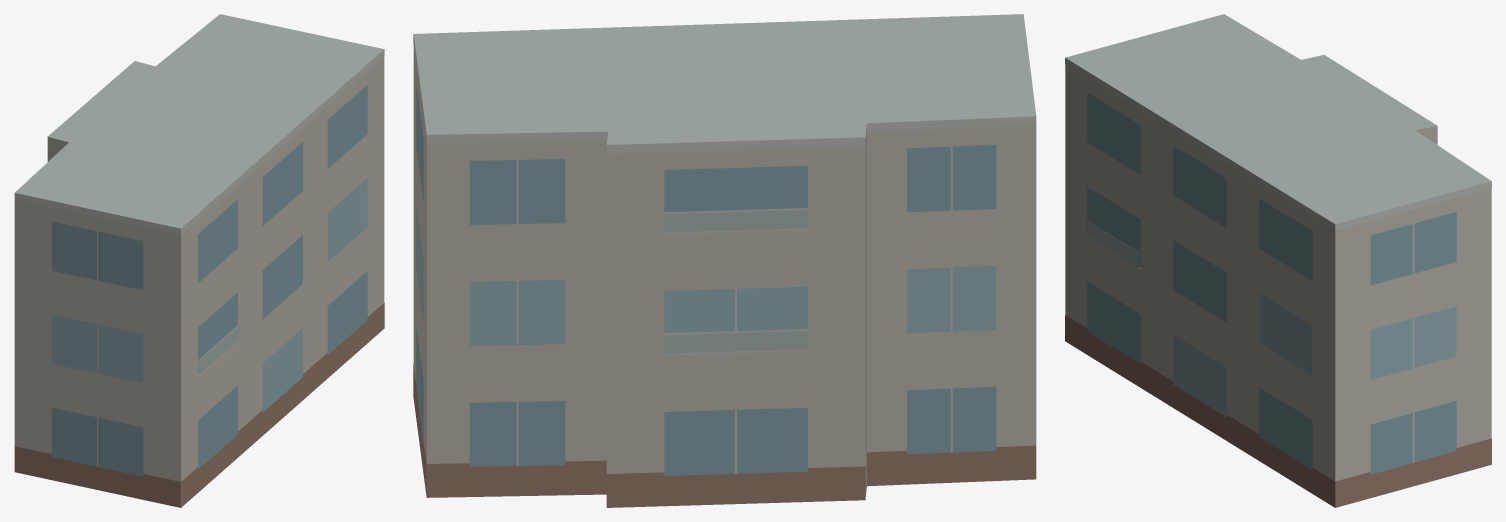
Rendered from survey-upis-32724189.glb.
3 renders of one model, left to right at view 1: azimuth 30°, elevation 25°; view 2: azimuth 150°, elevation 25°; view 3: azimuth 270°, elevation 25°, orthographic. The views are drawn at different scales.
Visible parts, largest first — view 1: survey-upis-32724189.tmp; view 2: survey-upis-32724189.tmp; view 3: survey-upis-32724189.tmp.
Boxes of the visible parts, left/top/right/bottom form: survey-upis-32724189.tmp: left=14, top=14, right=384, bottom=507; survey-upis-32724189.tmp: left=413, top=14, right=1036, bottom=507; survey-upis-32724189.tmp: left=1065, top=14, right=1491, bottom=507.
Bounding box in the file's own units: 16.23 × 10.2 × 13.92.
